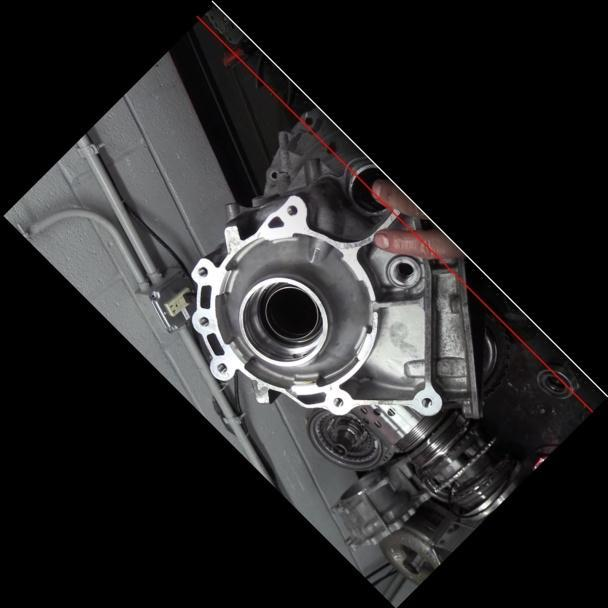hole: (282, 200, 301, 219), (328, 392, 346, 410), (193, 261, 211, 279), (417, 393, 435, 410), (194, 312, 211, 329), (213, 360, 229, 376)
